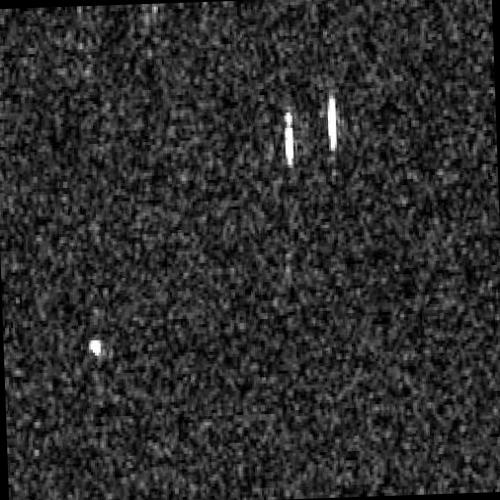ship: (326, 93, 337, 153), (284, 110, 294, 167), (87, 336, 102, 357)
